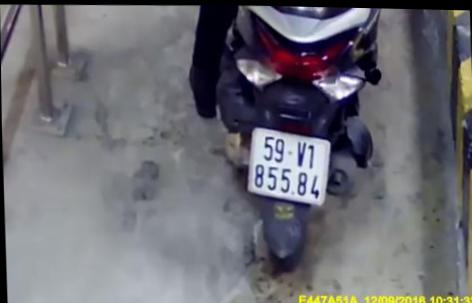LP: (246, 121, 333, 206)
